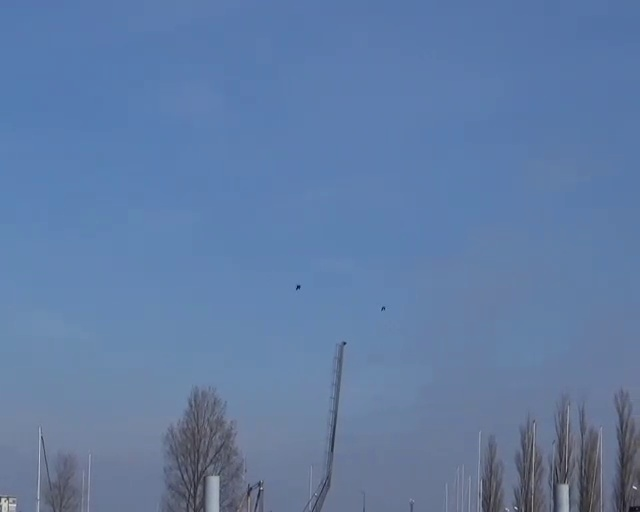BIRD: (295, 283, 301, 290)
